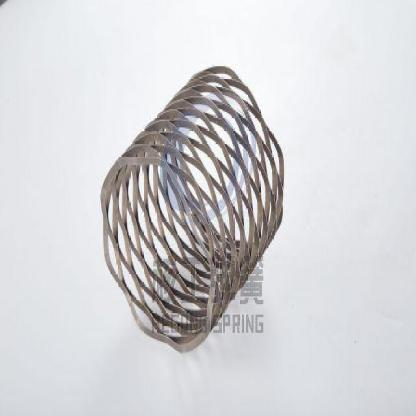FOD: (96, 55, 291, 358)
